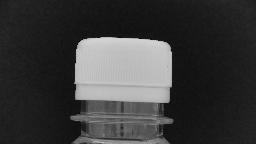Loose Cap: (67, 79, 175, 127)
